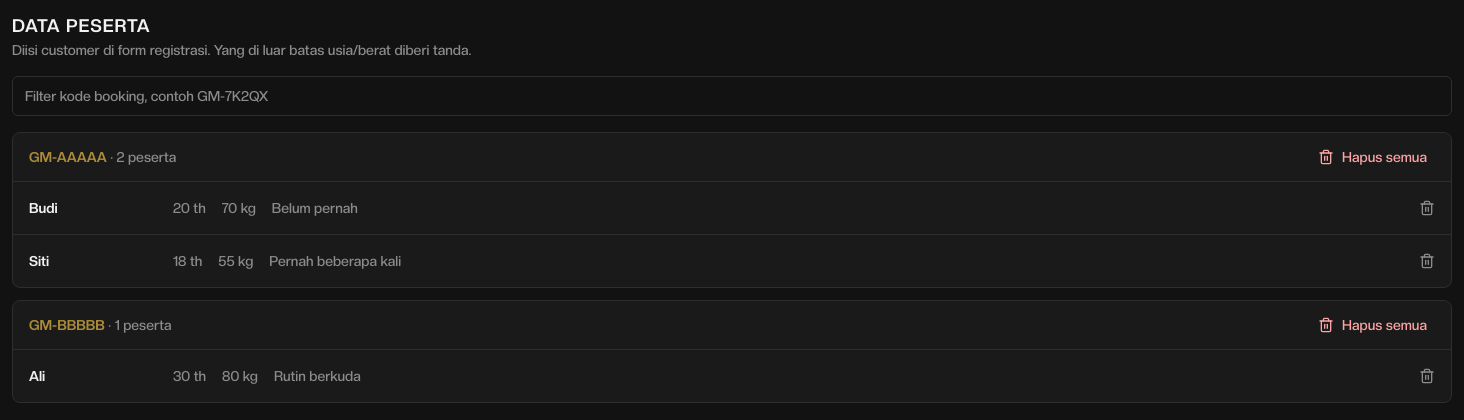
it: RegistrationsSection delete › deletes one rider after confirming
This screenshot has width=1464, height=420.
Click the button named "Hapus Budi". click: [1427, 208]
box: top-left (1411, 192), bottom-right (1443, 224)
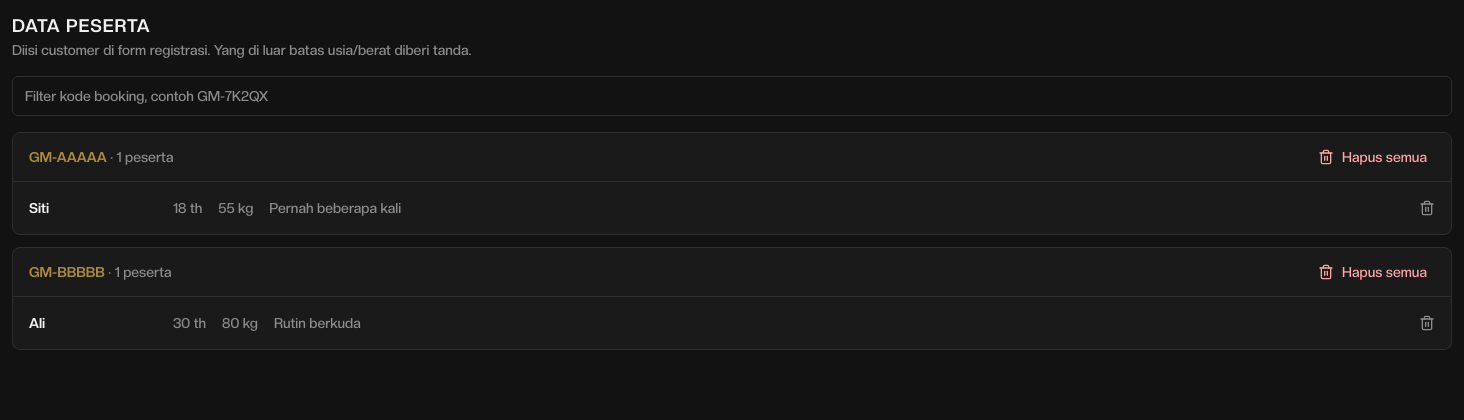
Expected: the text "Siti" is shown, top-left (29, 200), bottom-right (49, 216)
Expected: the text "Budi" is gone
